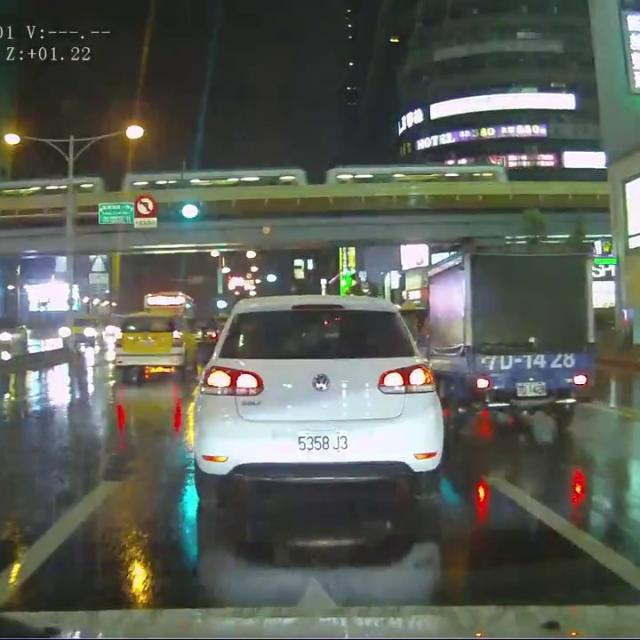Car: (187, 291, 447, 488), (111, 305, 201, 371), (61, 314, 98, 341), (193, 319, 222, 345)
